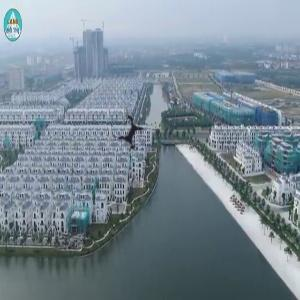drone: (94, 96, 168, 170)
